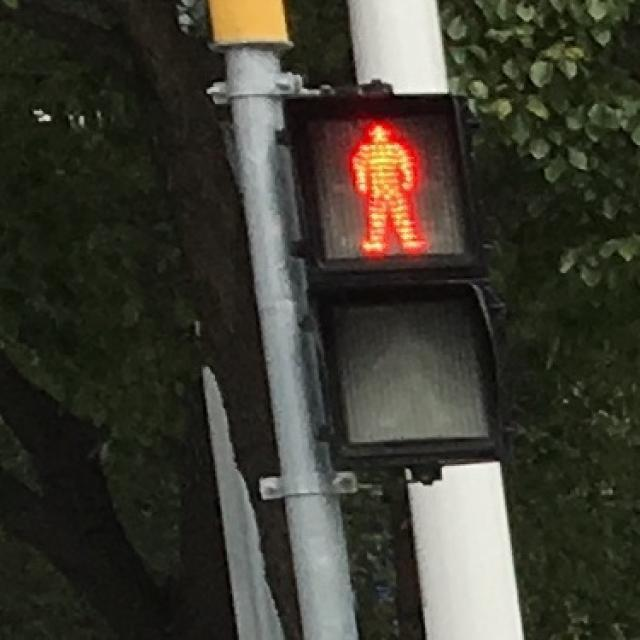red-crossing: (304, 110, 470, 266)
